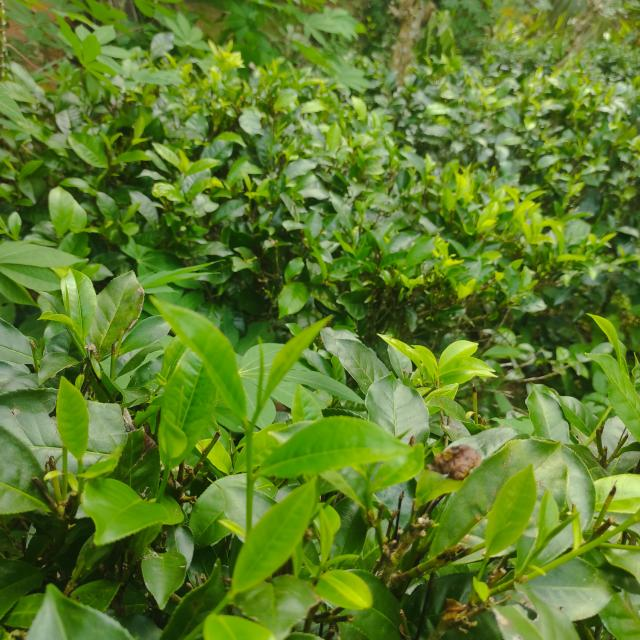unopened_leaf: (534, 505, 584, 553), (245, 333, 271, 417)
